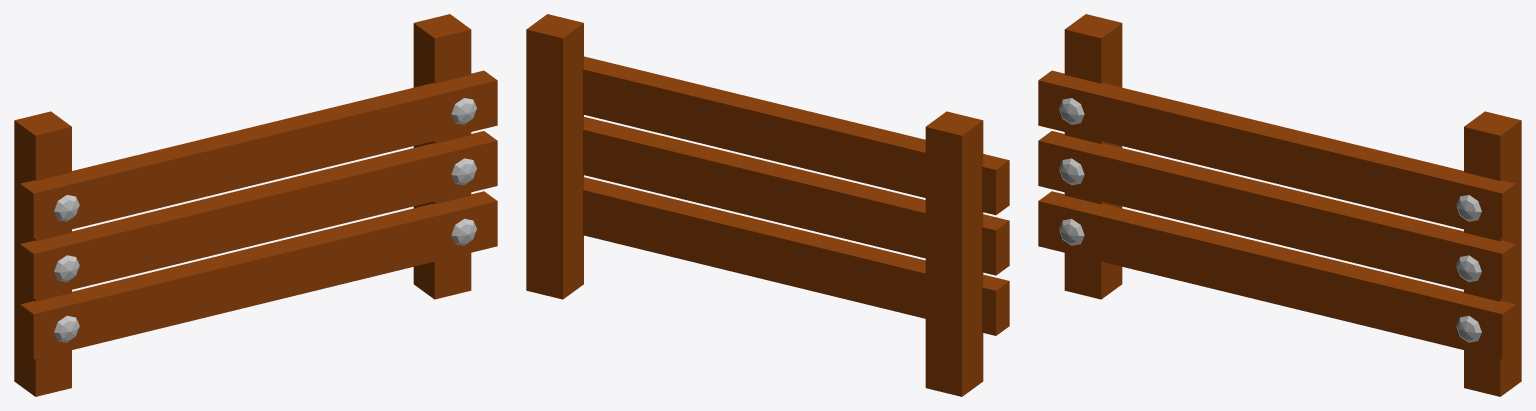
Rendered from 3_plank_2.FBX.
3 views of the same model, side by side, from view 1: azimuth 30°, elevation 25°; view 2: azimuth 150°, elevation 25°; view 3: azimuth 330°, elevation 25° (orthographic).
Visible parts, largest first — view 1: 3_plank_2; view 2: 3_plank_2; view 3: 3_plank_2.
Part boxes in pixels (bbox=[...]): 3_plank_2: bbox=[14, 14, 497, 396]; 3_plank_2: bbox=[526, 14, 1009, 396]; 3_plank_2: bbox=[1038, 14, 1521, 396].
Size of the model in its own units: 1.35 by 0.7267 by 0.1854.
Materials: 1 (1 with a texture image).
